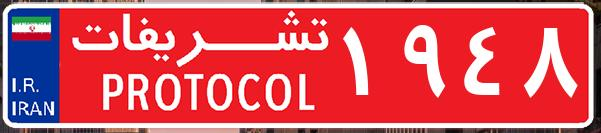1: (340, 20, 400, 115)
4: (460, 20, 520, 115)
8: (520, 20, 580, 115)
9: (400, 20, 460, 115)
تشریفات: (60, 8, 340, 125)
